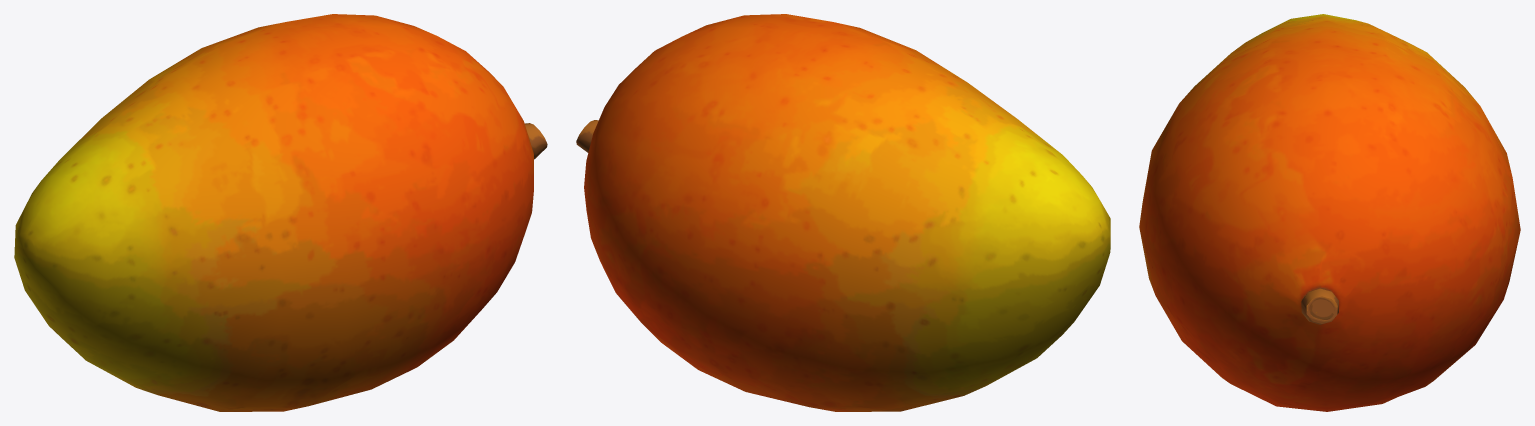
File: SM_Mango.fbx
3 renders of one model, left to right at view 1: azimuth 30°, elevation 25°; view 2: azimuth 150°, elevation 25°; view 3: azimuth 270°, elevation 25°, orthographic.
Parts seen in each view (by area): view 1: SM_Mango; view 2: SM_Mango; view 3: SM_Mango.
Boxes of the visible parts, box(x1,y1,x2,y2) form: SM_Mango: box(14, 14, 547, 411); SM_Mango: box(576, 14, 1110, 411); SM_Mango: box(1139, 14, 1520, 411).
Bounding box in the file's own units: 24.05 × 15.37 × 15.51.
